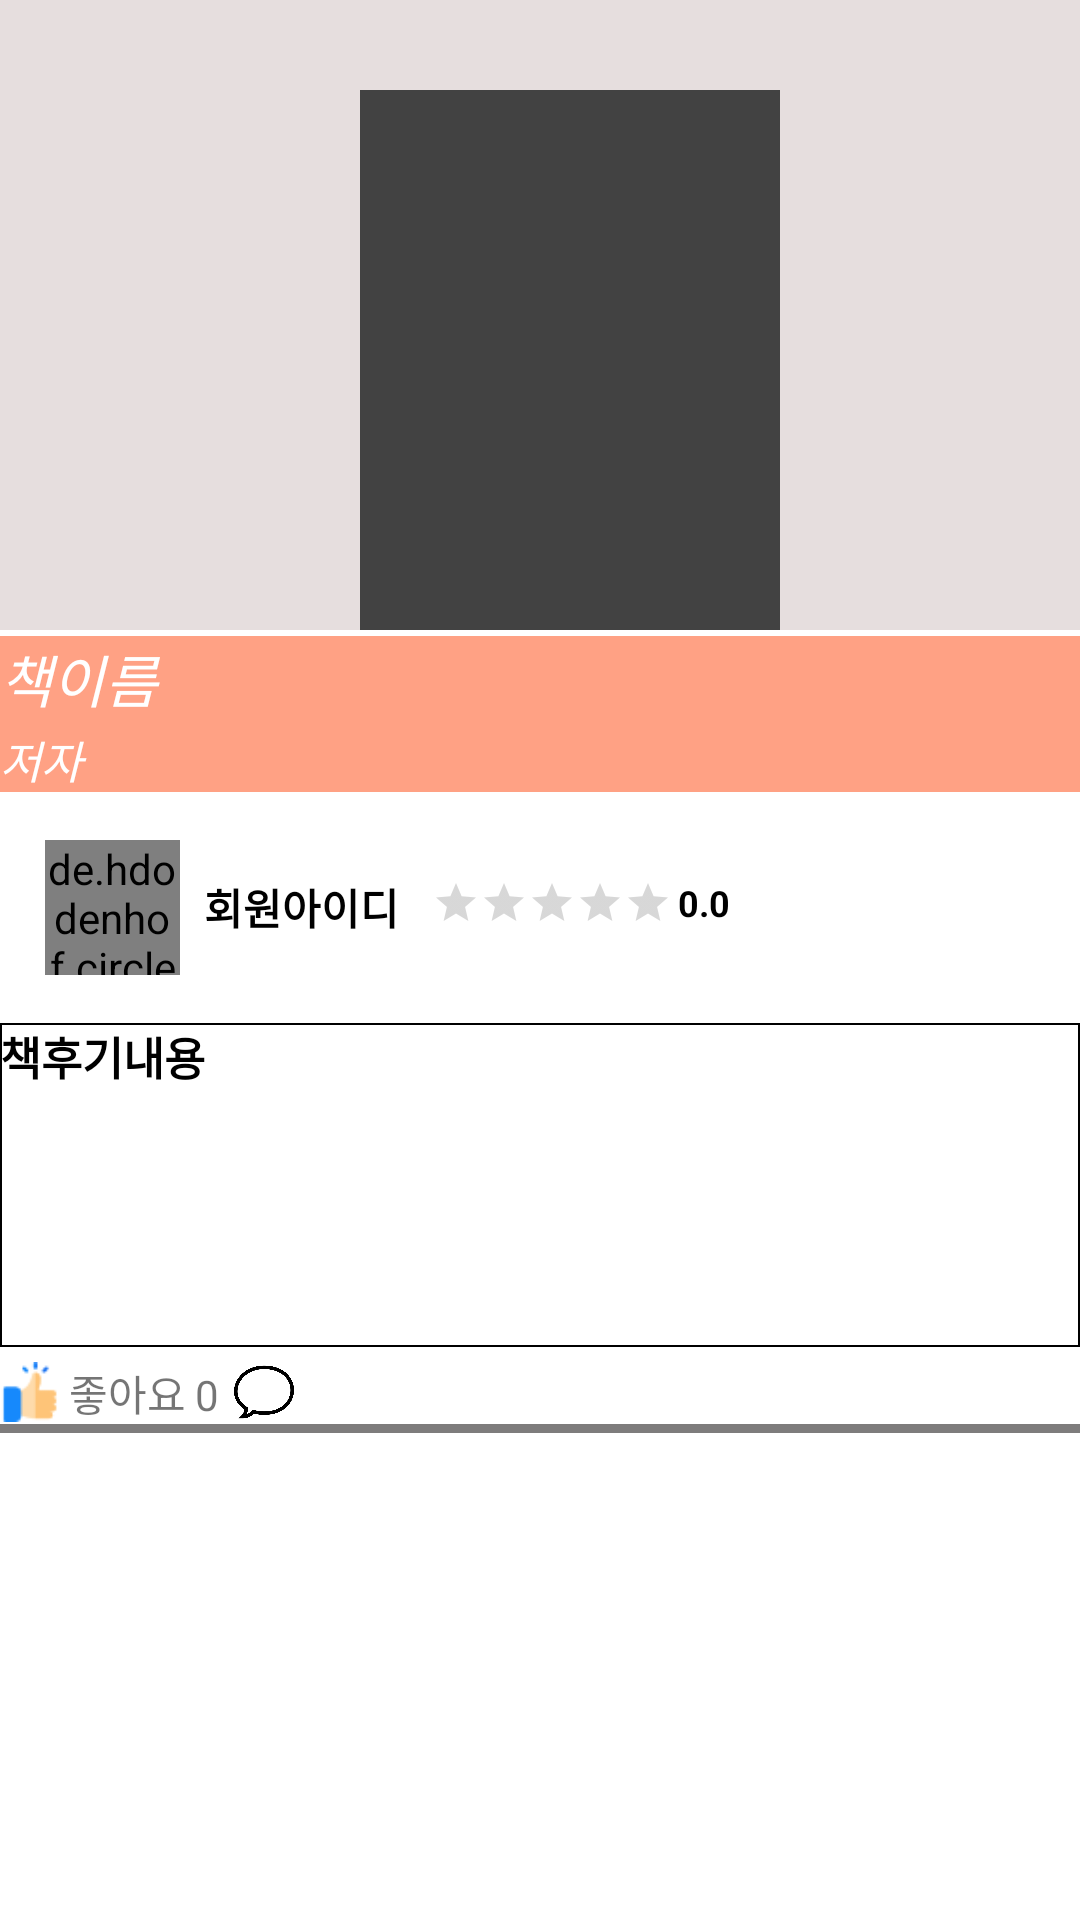

Where icons sit on this 1080 x 1920 app screen, as (x1, y1, x2, y2):
reply: (234, 1365, 294, 1419)
